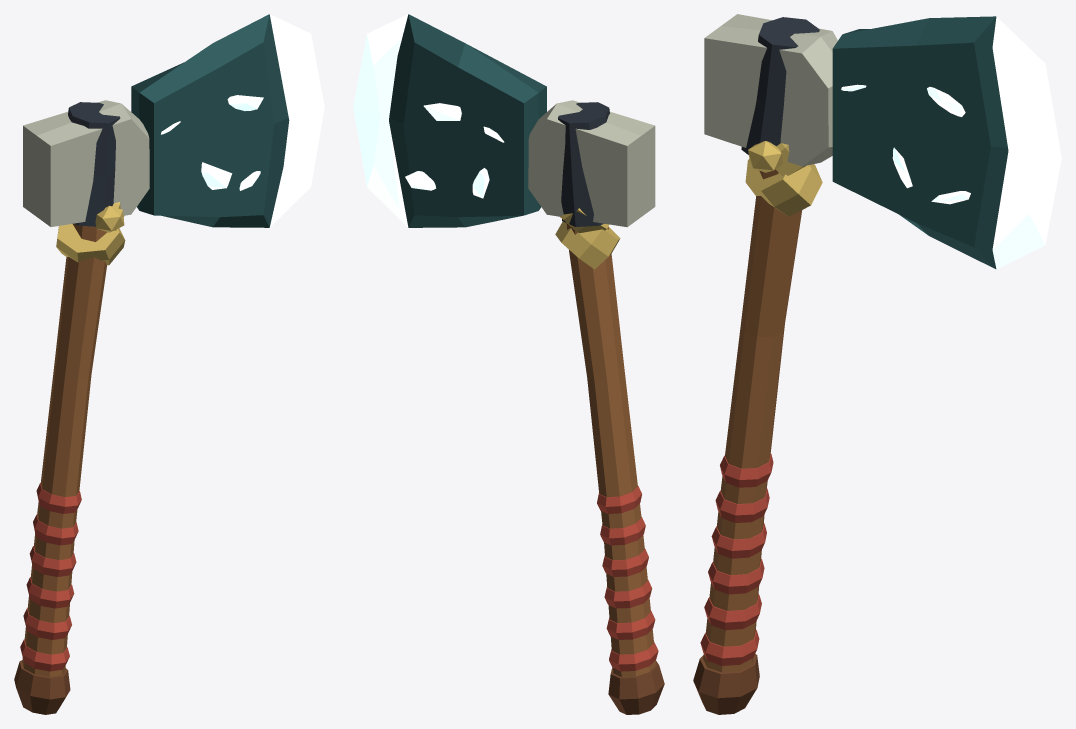
File: wellglass_axe_viewmodel.glb
The picture shows the model from 3 angles, left to right: view 1: azimuth 30°, elevation 25°; view 2: azimuth 150°, elevation 25°; view 3: azimuth 330°, elevation 25°; orthographic projection. The views are drawn at different scales.
Visible parts, largest first — view 1: Wellglass_Axe_Blade.001, Handle.017, Wellglass_Axe_Cradle.001, Wellglass_Axe_Edge.001, Wellglass_Axe_Socket.001, Handle_Butt.017, Lashing_1.009, Grip_Wrap_1.017, Grip_Wrap_2.017, Grip_Wrap_3.017, Grip_Wrap_4.017, Grip_Wrap_5.017 (+3 smaller); view 2: Wellglass_Axe_Blade.001, Handle.017, Wellglass_Axe_Cradle.001, Wellglass_Axe_Edge.001, Wellglass_Axe_Socket.001, Handle_Butt.017, Lashing_1.009, Grip_Wrap_1.017, Grip_Wrap_2.017, Grip_Wrap_3.017, Grip_Wrap_4.017, Grip_Wrap_5.017 (+2 smaller); view 3: Wellglass_Axe_Blade.001, Handle.017, Wellglass_Axe_Cradle.001, Wellglass_Axe_Edge.001, Wellglass_Axe_Socket.001, Handle_Butt.017, Lashing_1.009, Grip_Wrap_1.017, Grip_Wrap_2.017, Grip_Wrap_3.017, Grip_Wrap_4.017, Grip_Wrap_5.017 (+2 smaller).
Part boxes in pixels (<box>): Wellglass_Axe_Blade.001: <box>131,14,289,227</box>; Handle.017: <box>22,223,107,677</box>; Wellglass_Axe_Cradle.001: <box>23,100,149,226</box>; Wellglass_Axe_Edge.001: <box>269,14,324,227</box>; Wellglass_Axe_Socket.001: <box>68,102,120,226</box>; Handle_Butt.017: <box>14,660,70,714</box>; Lashing_1.009: <box>56,224,125,265</box>; Grip_Wrap_1.017: <box>20,639,69,671</box>; Grip_Wrap_2.017: <box>23,608,71,639</box>; Grip_Wrap_3.017: <box>26,577,74,608</box>; Grip_Wrap_4.017: <box>29,546,76,576</box>; Grip_Wrap_5.017: <box>33,514,78,545</box>; Wellglass_Axe_Blade.001: <box>389,14,546,227</box>; Handle.017: <box>566,223,656,677</box>; Wellglass_Axe_Cradle.001: <box>528,100,655,227</box>; Wellglass_Axe_Edge.001: <box>353,14,408,227</box>; Wellglass_Axe_Socket.001: <box>558,102,609,226</box>; Handle_Butt.017: <box>608,661,664,714</box>; Lashing_1.009: <box>555,221,620,269</box>; Grip_Wrap_1.017: <box>609,642,658,671</box>; Grip_Wrap_2.017: <box>606,611,655,639</box>; Grip_Wrap_3.017: <box>604,580,652,608</box>; Grip_Wrap_4.017: <box>602,548,648,576</box>; Grip_Wrap_5.017: <box>600,516,645,545</box>; Wellglass_Axe_Blade.001: <box>832,16,1008,268</box>; Handle.017: <box>703,169,802,672</box>; Wellglass_Axe_Cradle.001: <box>704,14,837,166</box>; Wellglass_Axe_Edge.001: <box>992,16,1061,269</box>; Wellglass_Axe_Socket.001: <box>741,17,819,154</box>; Handle_Butt.017: <box>693,654,759,714</box>; Lashing_1.009: <box>745,159,822,216</box>; Grip_Wrap_1.017: <box>700,630,759,665</box>; Grip_Wrap_2.017: <box>704,594,761,630</box>; Grip_Wrap_3.017: <box>708,559,764,594</box>; Grip_Wrap_4.017: <box>711,523,766,558</box>; Grip_Wrap_5.017: <box>715,488,769,522</box>.
Size of the model in its own units: 0.7091 by 1.41 by 0.1754.
